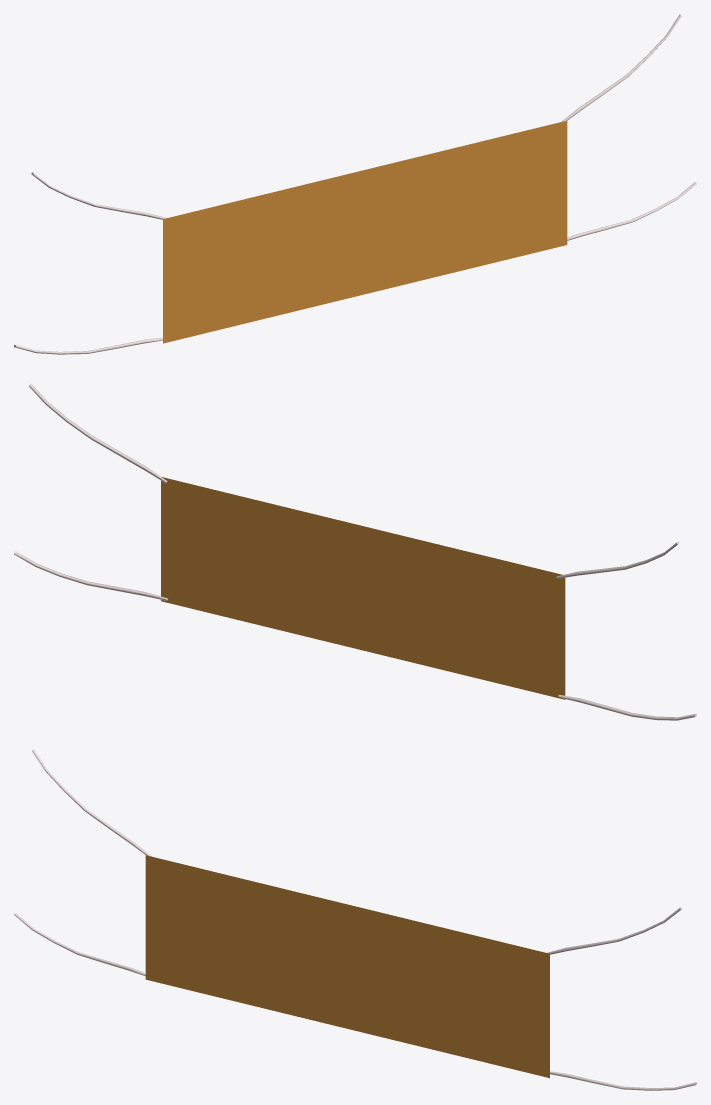
The model's file is FlyBanner04.fbx.
3 views of the same model, one above another, from view 1: azimuth 30°, elevation 25°; view 2: azimuth 150°, elevation 25°; view 3: azimuth 330°, elevation 25° (orthographic).
Parts seen in each view (by area): view 1: Plane03; view 2: Plane03; view 3: Plane03.
Boxes of the visible parts, x1=… form: Plane03: x1=14, y1=14, x2=696, y2=354; Plane03: x1=14, y1=383, x2=696, y2=720; Plane03: x1=14, y1=749, x2=696, y2=1090.
Bounding box in the file's own units: 88.28 × 2.25 × 24.05.
